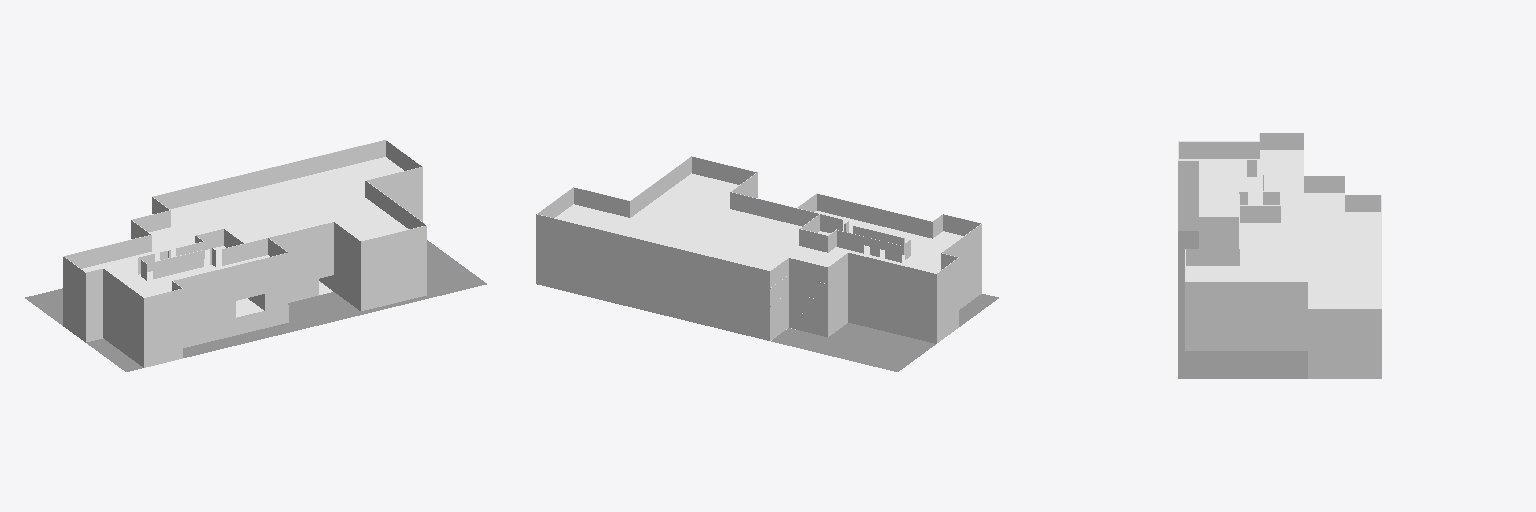
The model's file is Maria_Inmaculada.obj.
The picture shows the model from 3 angles: view 1: azimuth 30°, elevation 25°; view 2: azimuth 150°, elevation 25°; view 3: azimuth 270°, elevation 25°; orthographic projection.
Parts seen in each view (by area): view 1: room_184_1085, ground_1, wall_145_869, wall_83_496, wall_39_232, wall_153_917, wall_58_347, wall_98_587, wall_138_827, wall_54_323, wall_157_941, wall_155_929 (+14 smaller); view 2: room_184_1085, ground_1, wall_93_556, wall_65_388, wall_145_868, wall_49_292, wall_73_436, wall_89_532, wall_153_916, wall_45_268, wall_157_940, wall_155_928 (+8 smaller); view 3: room_184_1085, ground_1, wall_59_353, wall_99_593, wall_139_833, wall_55_329, wall_150_899, wall_94_562, wall_144_862, wall_50_298, wall_64_382, wall_137_820 (+6 smaller).
Boxes of the visible parts, <box> form: room_184_1085: <box>82,157,408,297</box>; ground_1: <box>25,240,486,371</box>; wall_145_869: <box>153,140,385,208</box>; wall_83_496: <box>183,270,288,313</box>; wall_39_232: <box>183,306,288,347</box>; wall_153_917: <box>64,235,151,268</box>; wall_58_347: <box>361,261,426,293</box>; wall_98_587: <box>361,243,426,276</box>; wall_138_827: <box>361,226,426,258</box>; wall_54_323: <box>361,279,426,310</box>; wall_157_941: <box>269,222,333,250</box>; wall_155_929: <box>174,266,235,295</box>; room_184_1085: <box>555,173,963,288</box>; ground_1: <box>771,294,998,371</box>; wall_93_556: <box>536,232,769,306</box>; wall_65_388: <box>536,250,769,323</box>; wall_145_868: <box>536,214,769,288</box>; wall_49_292: <box>536,267,769,340</box>; wall_73_436: <box>848,288,936,326</box>; wall_89_532: <box>848,270,936,308</box>; wall_153_916: <box>848,253,936,291</box>; wall_45_268: <box>848,306,936,343</box>; wall_157_940: <box>730,192,795,224</box>; wall_155_928: <box>868,206,931,237</box>; room_184_1085: <box>1179,150,1380,308</box>; ground_1: <box>1178,231,1307,378</box>; wall_59_353: <box>1185,317,1279,334</box>; wall_99_593: <box>1185,299,1279,316</box>; wall_139_833: <box>1185,282,1279,298</box>; wall_55_329: <box>1185,335,1279,350</box>; wall_150_899: <box>1179,142,1259,158</box>; wall_94_562: <box>1308,327,1381,344</box>; wall_144_862: <box>1308,309,1381,326</box>; wall_50_298: <box>1308,362,1381,378</box>; wall_64_382: <box>1308,345,1381,361</box>; wall_137_820: <box>1186,249,1238,265</box>.
Bounding box in the file's own units: 5602 × 1036 × 2738.